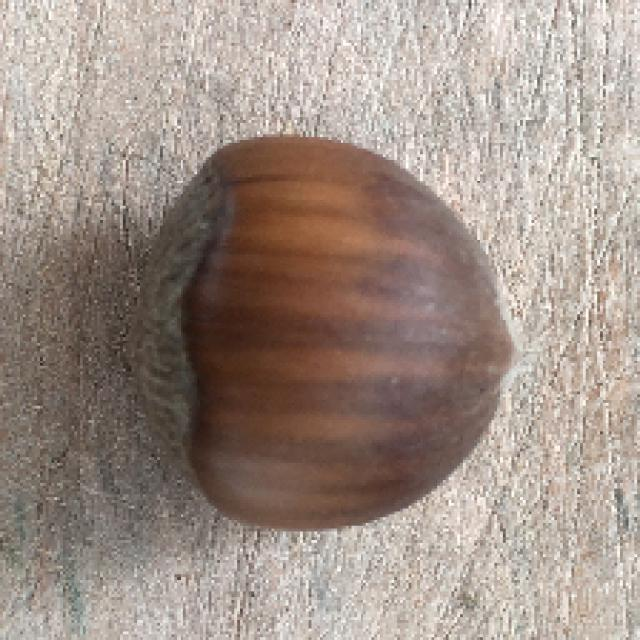damagedHazelnut: (118, 129, 524, 538)
